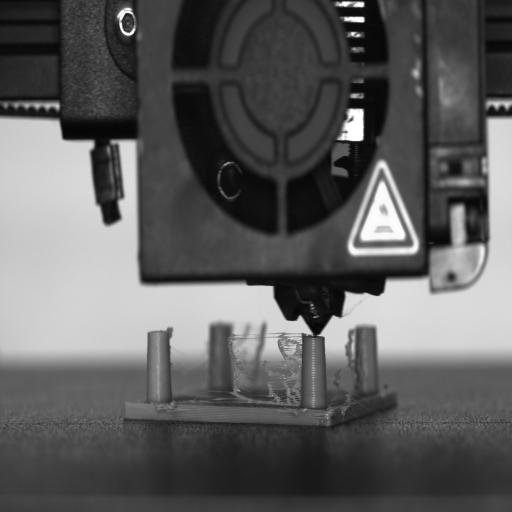spaghetti_and_stringing: (222, 328, 356, 415)
